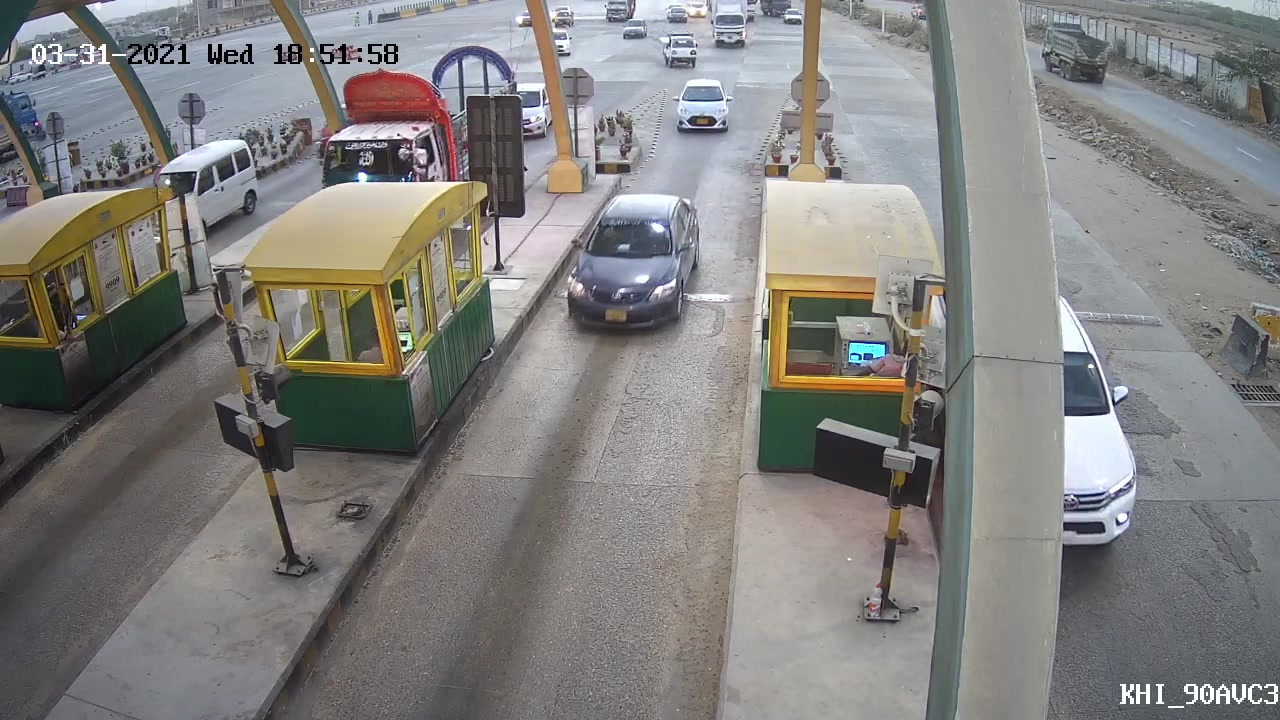F1: (556, 183, 705, 329)
